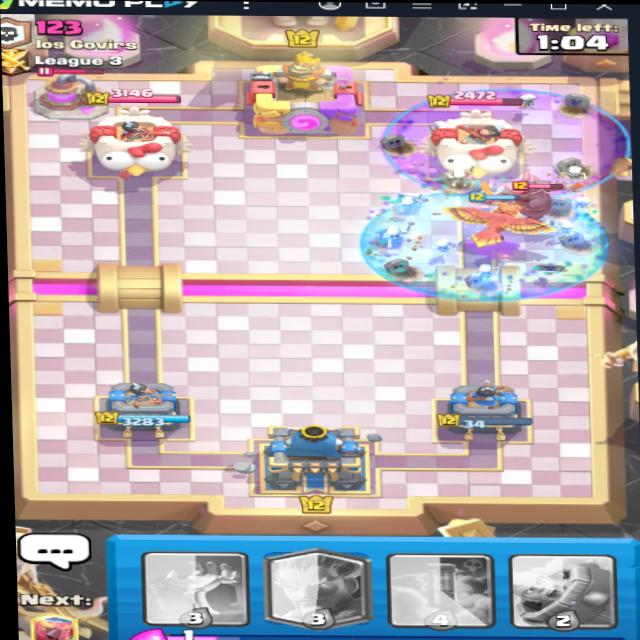elixir-collector: (15, 67, 109, 123)
pekka: (509, 182, 569, 225)
